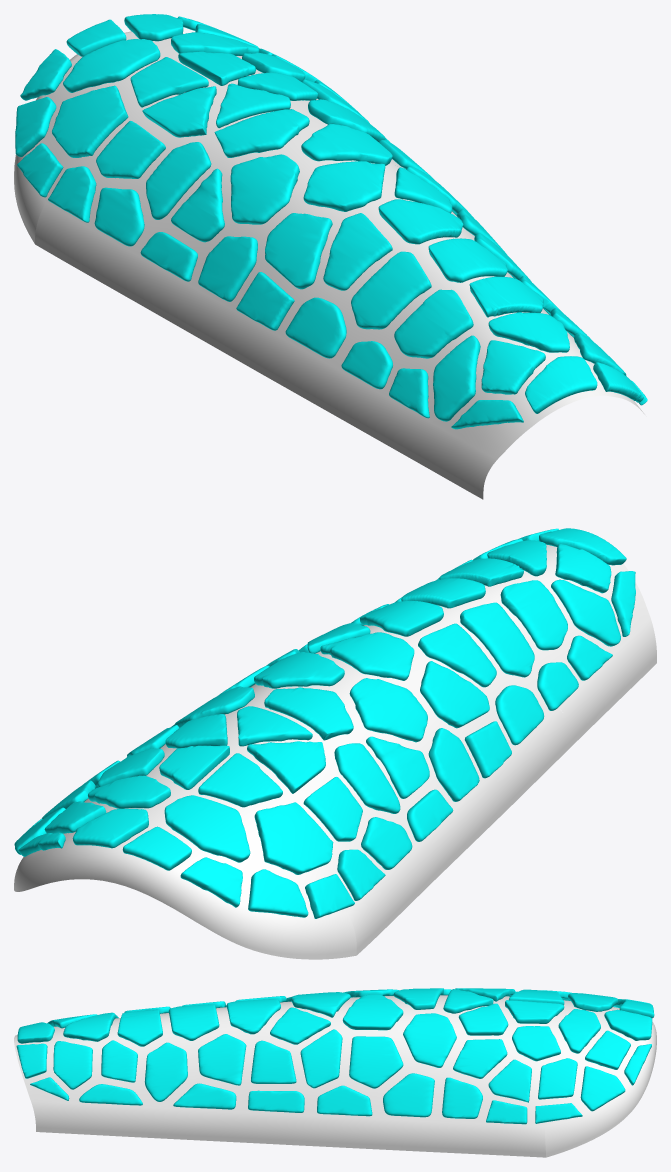
The model's file is fractured-relic-coffin-web.glb.
3 renders of one model, top to bottom at view 1: azimuth 30°, elevation 25°; view 2: azimuth 150°, elevation 25°; view 3: azimuth 270°, elevation 25°, orthographic. The views are drawn at different scales.
Bounding box in the file's own units: 0.0138 × 0.00632 × 0.035.
